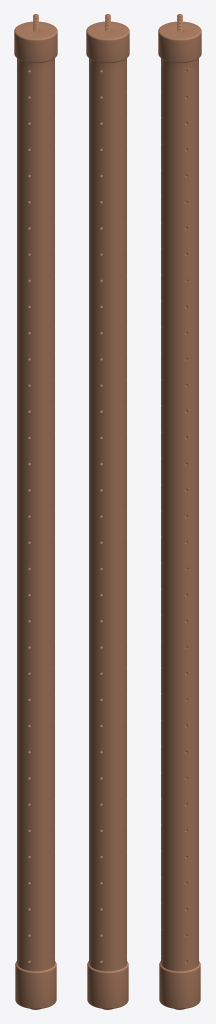
The picture shows the model from 3 angles, left to right: view 1: azimuth 30°, elevation 25°; view 2: azimuth 210°, elevation 25°; view 3: azimuth 330°, elevation 25°; orthographic projection.
Parts seen in each view (by area): view 1: Bolt.001; view 2: Bolt.001; view 3: Bolt.001.
Boxes of the visible parts, box(x1,y1,x2,y2) form: Bolt.001: box(14, 14, 57, 1009); Bolt.001: box(86, 14, 129, 1009); Bolt.001: box(158, 14, 201, 1009).
Size of the model in its own units: 0.1885 by 4.73 by 0.1885.
Materials: 1 (1 with a texture image).
